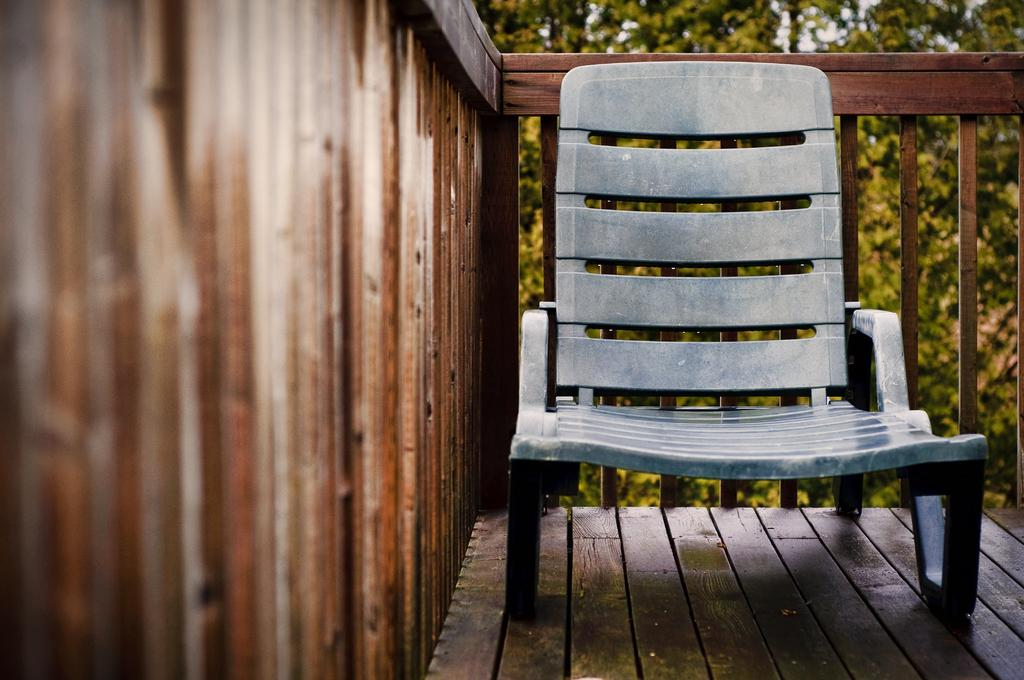Chair: (443, 88, 929, 629)
